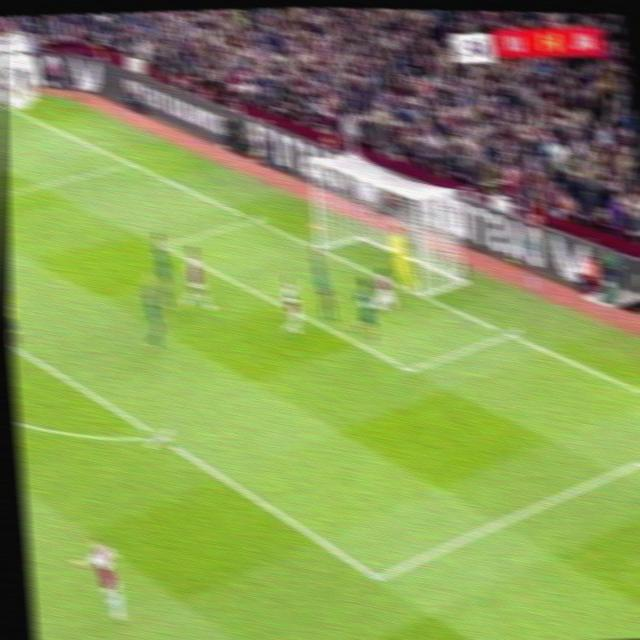bigarea_bottom_inner: (362, 558, 394, 595)
bigarea_top_outter: (119, 151, 143, 173)
bottom_arc_area_intersection: (144, 419, 175, 453)
corner: (1, 96, 11, 111)
smallarea_bottom_inner: (395, 351, 426, 386)
smallarea_bottom_outter: (494, 317, 522, 346)
smallarea_top_inner: (153, 232, 175, 255)
smallarea_top_outter: (242, 207, 266, 230)
